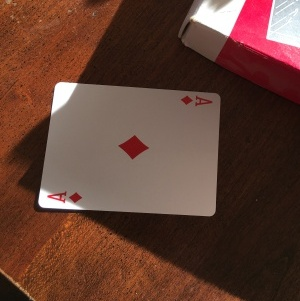card: (38, 82, 221, 219)
